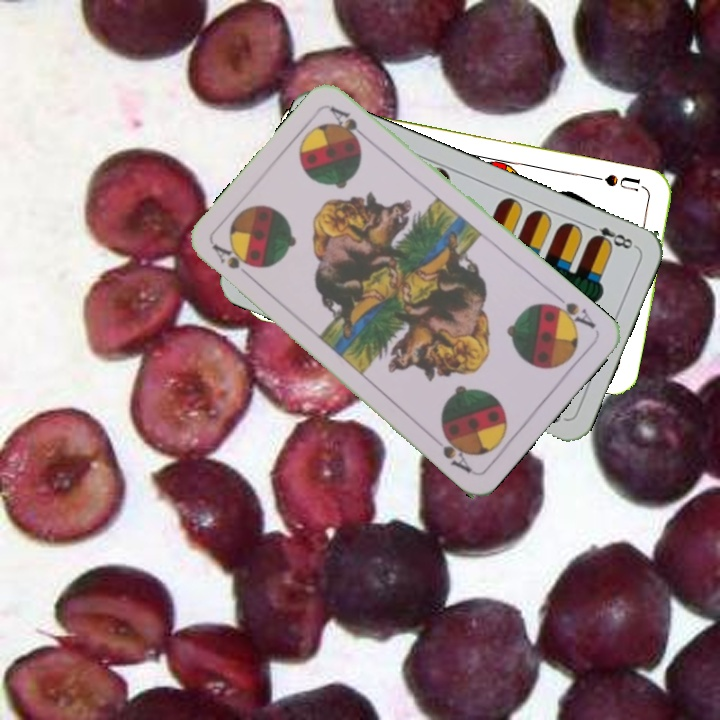E8: (582, 220, 639, 252)
SA: (543, 289, 599, 333), (208, 240, 258, 284)
SU: (591, 170, 643, 194)
